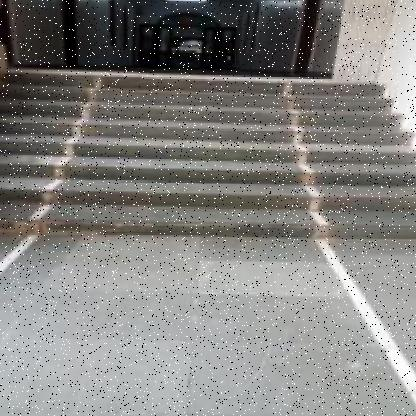stair_up: (61, 60, 337, 249)
